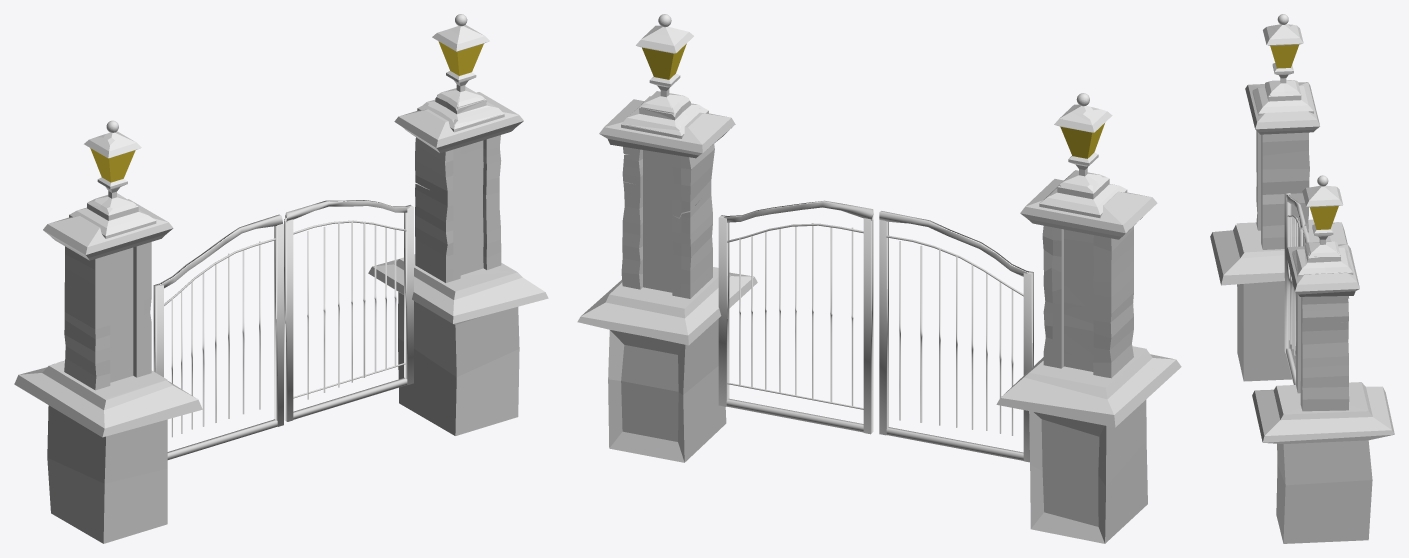
File: door.fbx
The picture shows the model from 3 angles, left to right: view 1: azimuth 30°, elevation 25°; view 2: azimuth 150°, elevation 25°; view 3: azimuth 270°, elevation 25°; orthographic projection. The views are drawn at different scales.
Visible parts, largest first — view 1: stone, Cylinder.001, Cube.011, light, light.001; view 2: stone, Cylinder.001, Cube.011, light, light.001; view 3: stone, light, Cube.011, light.001.
Boxes of the visible parts, left/top/right/bottom form: stone: left=14, top=92, right=548, bottom=543; Cylinder.001: left=284, top=200, right=413, bottom=421; Cube.011: left=153, top=214, right=283, bottom=459; light: left=69, top=14, right=504, bottom=238; light.001: left=90, top=41, right=483, bottom=182; stone: left=577, top=99, right=1181, bottom=543; Cylinder.001: left=718, top=200, right=873, bottom=434; Cube.011: left=879, top=211, right=1033, bottom=462; light: left=621, top=14, right=1127, bottom=217; light.001: left=642, top=43, right=1104, bottom=158; stone: left=1210, top=82, right=1394, bottom=543; light: left=1252, top=14, right=1353, bottom=277; Cube.011: left=1284, top=193, right=1305, bottom=384; light.001: left=1270, top=44, right=1338, bottom=229.
Bounding box in the file's own units: 2723 × 2116 × 998.
